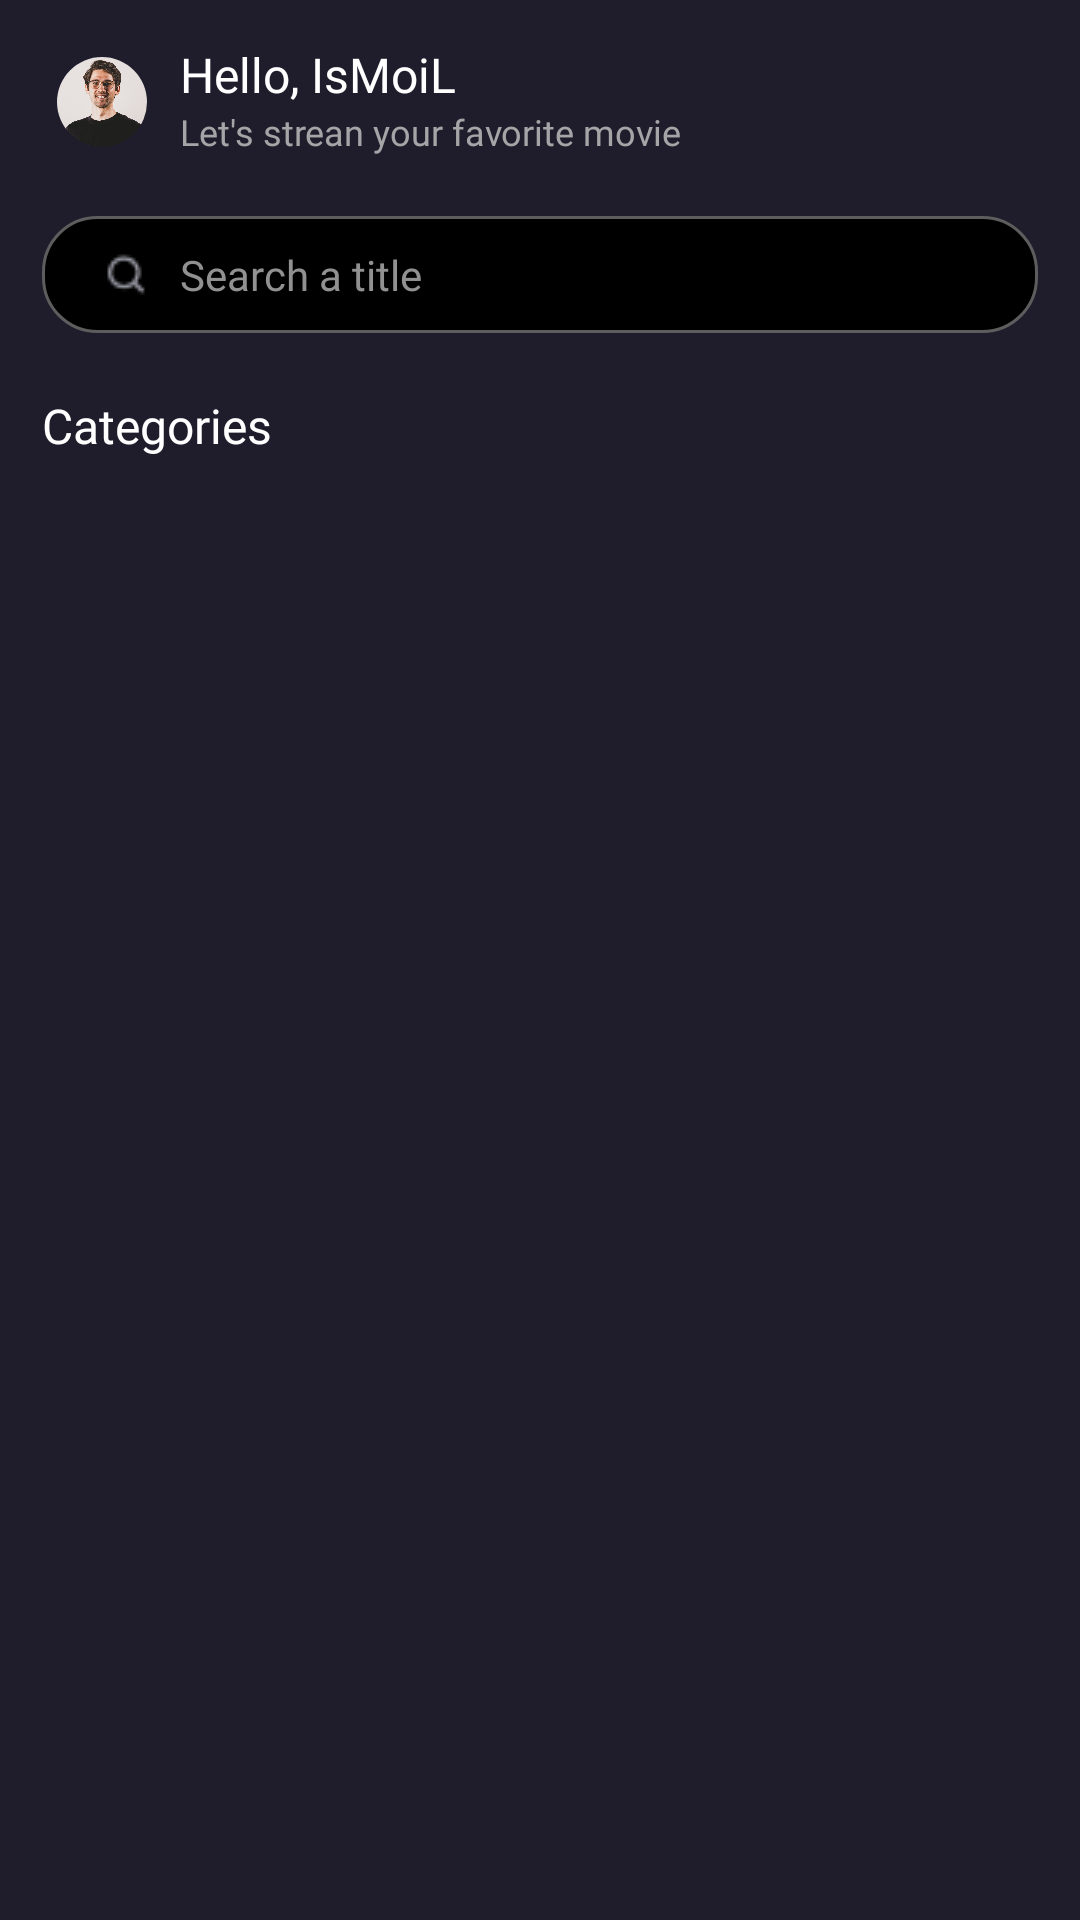

Icons on this 1080*1920 Android screen, each with the point to tap as (x=x, y=y):
user: (x=102, y=97)
